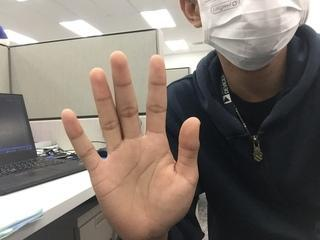hand: (59, 50, 201, 240)
